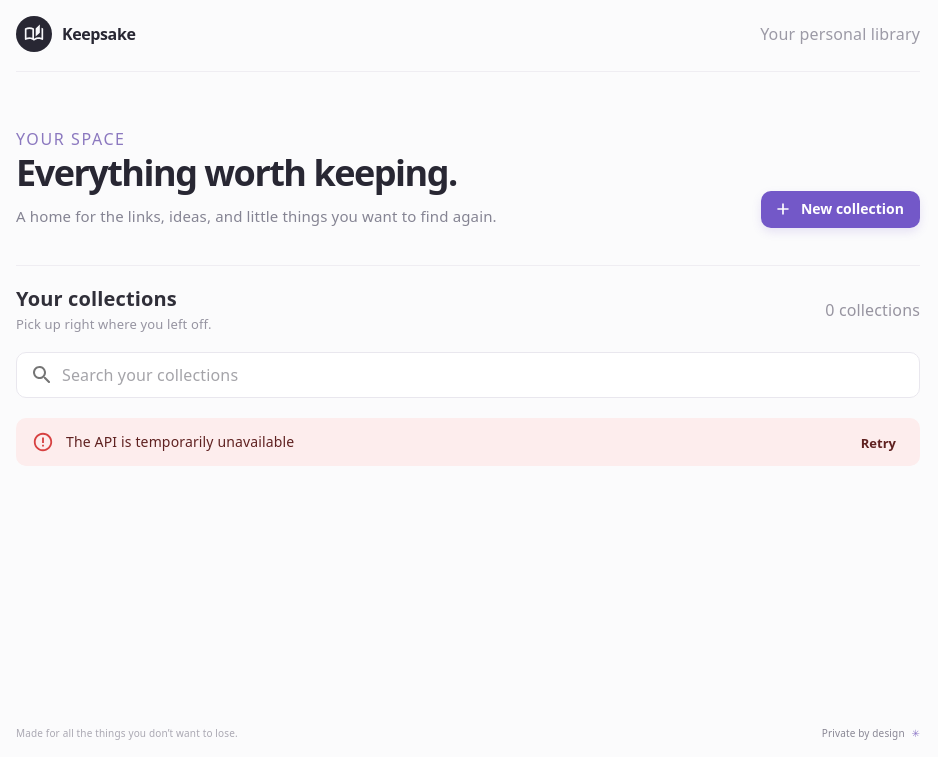
Test: HomePage › retries collection loading without reloading the page
Expected: the text "The API is temporarily unavailable" is shown, [66,432,294,451]
Click the button "Retry" at (878, 444), box [845,428,912,459]
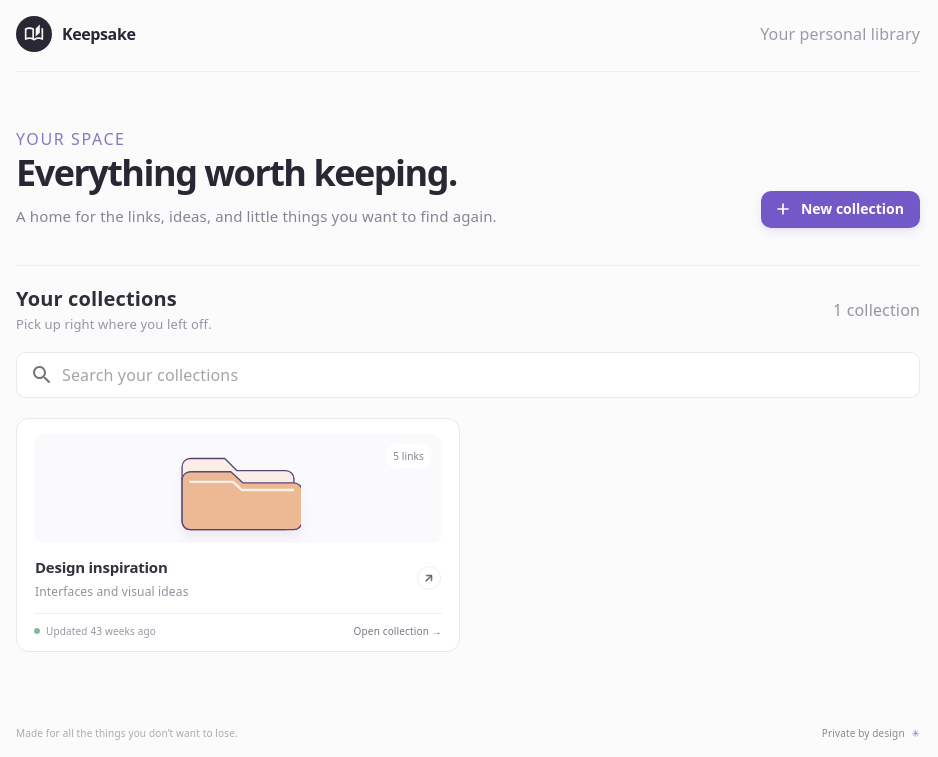
Expected: the heading "Design inspiration" is shown, [35,556,188,579]
